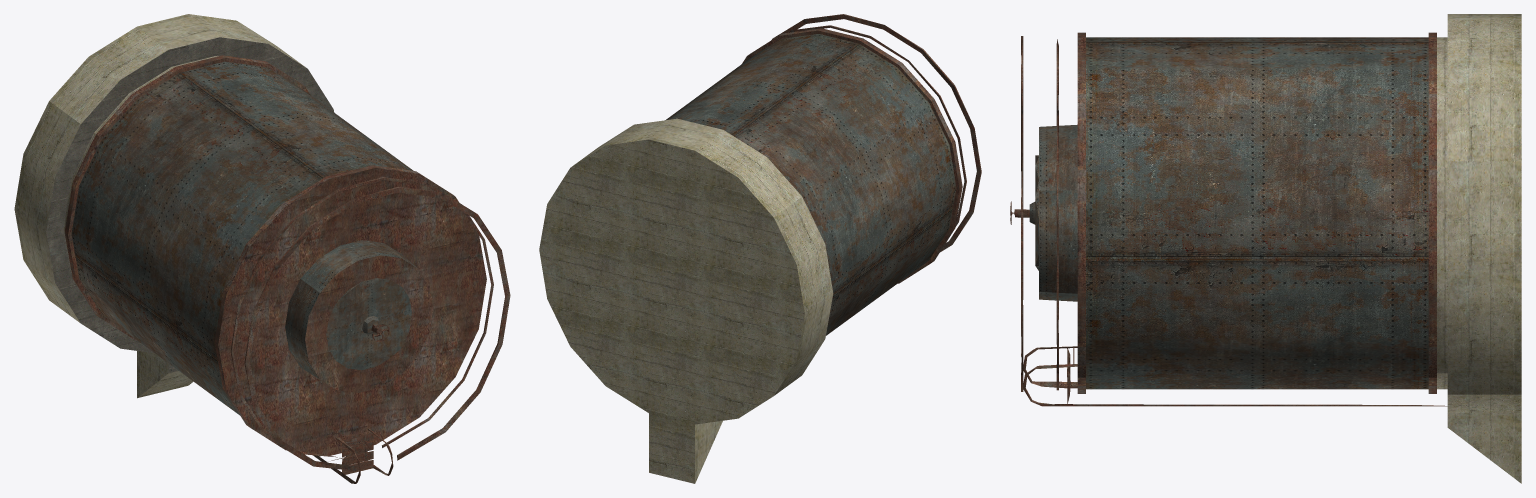
Rendered from tank_2_LOD1.obj.
3 views of the same model, side by side, from view 1: azimuth 30°, elevation 25°; view 2: azimuth 150°, elevation 25°; view 3: azimuth 270°, elevation 25° (orthographic). The views are drawn at different scales.
Parts seen in each view (by area): view 1: MSH_Object; view 2: MSH_Object; view 3: MSH_Object.
Boxes of the visible parts, x1,y1,x2,y2 form: MSH_Object: [14, 14, 510, 483]; MSH_Object: [539, 14, 981, 483]; MSH_Object: [1010, 14, 1521, 483].
Size of the model in its own units: 31.02 by 37.18 by 39.66.
Materials: 4 (4 with a texture image).
